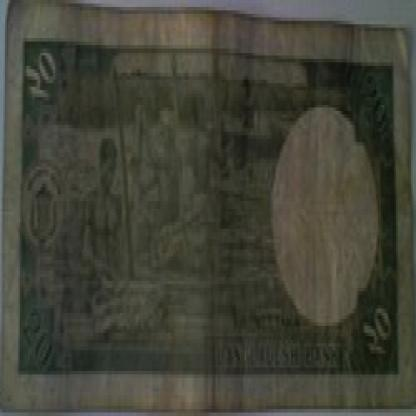Twenty: (22, 35, 73, 104), (360, 298, 394, 357)
